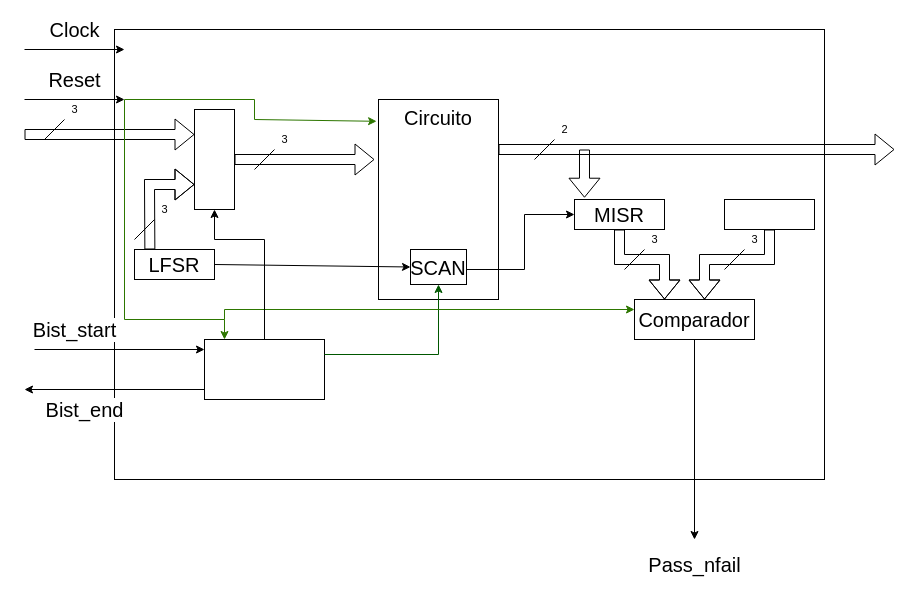
The diagram is 912 pixels wide and 593 high, and some of its shapes have lost their labels. Here are the shapes that lost their labels. From the top down, the centre of each, then its label:
At (x=214, y=159): "M U X".
At (x=769, y=214): "Signature".
At (x=264, y=369): "Bist Controler".
